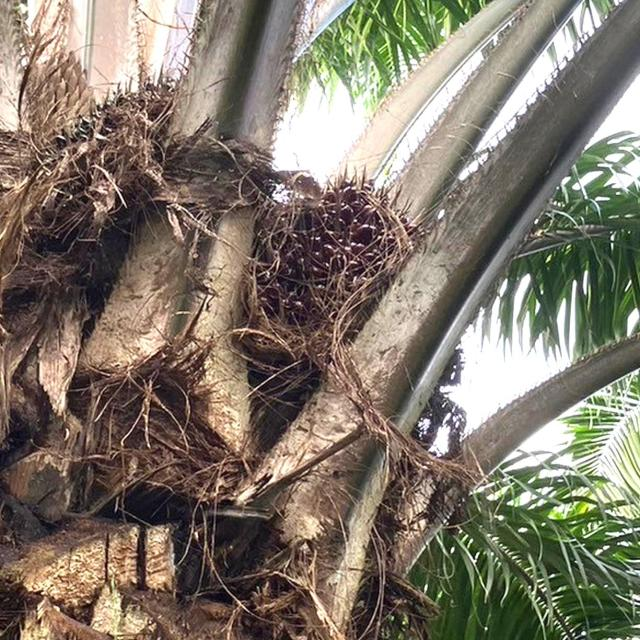ripe: (247, 154, 440, 371)
